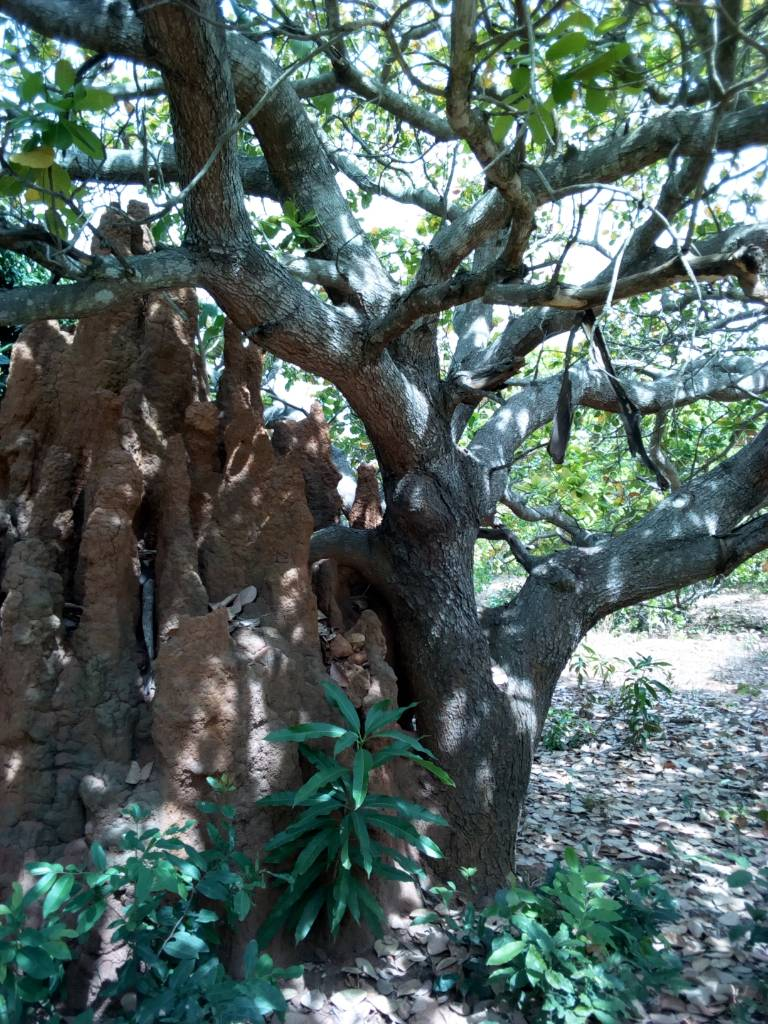Virose: (1, 180, 513, 930)
